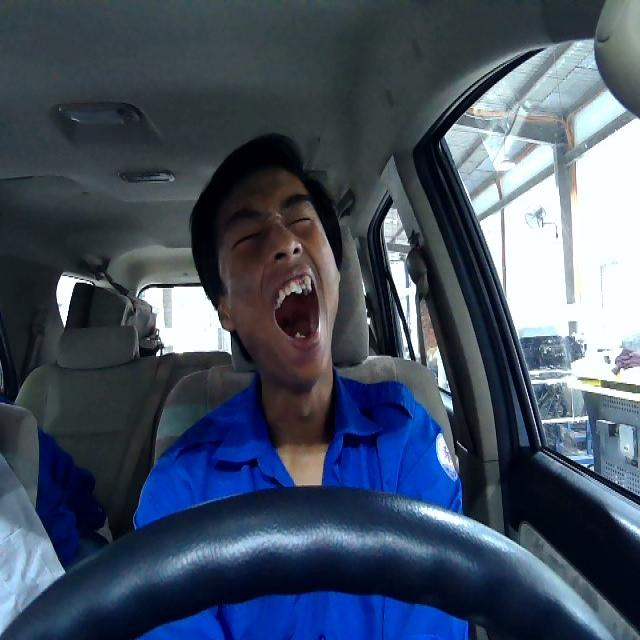yarning: (215, 164, 339, 387)
